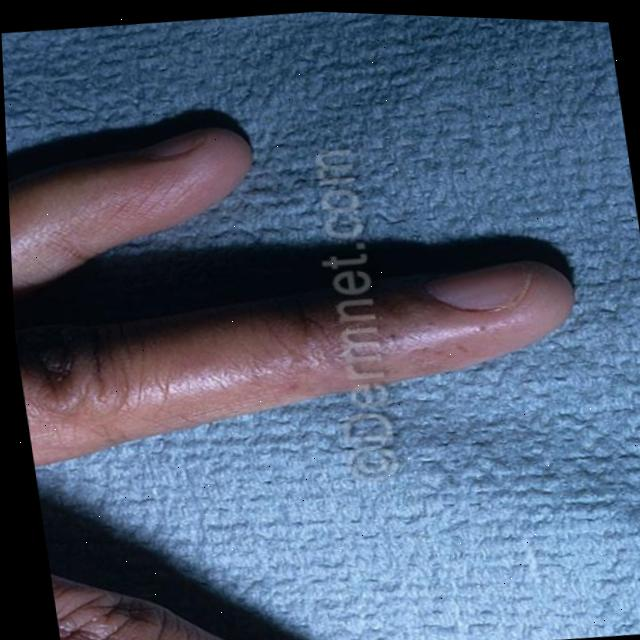Eczema: (65, 293, 483, 433)
